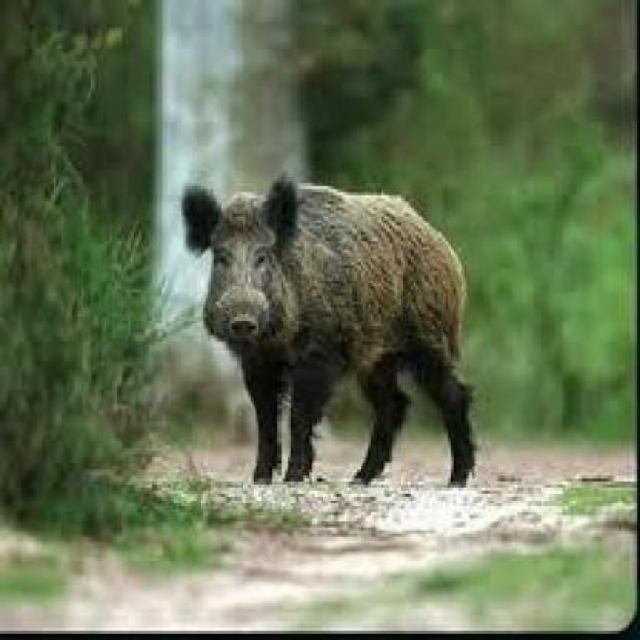wildboar: (173, 175, 484, 494)
